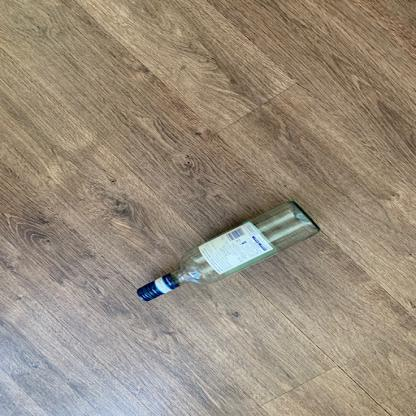trash: (133, 198, 318, 304)
